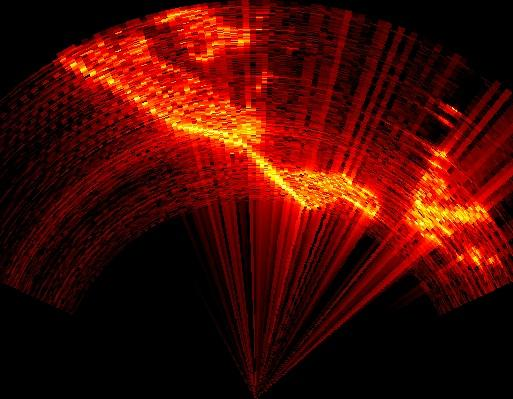shipwreck: (67, 5, 380, 218), (415, 202, 490, 238)
